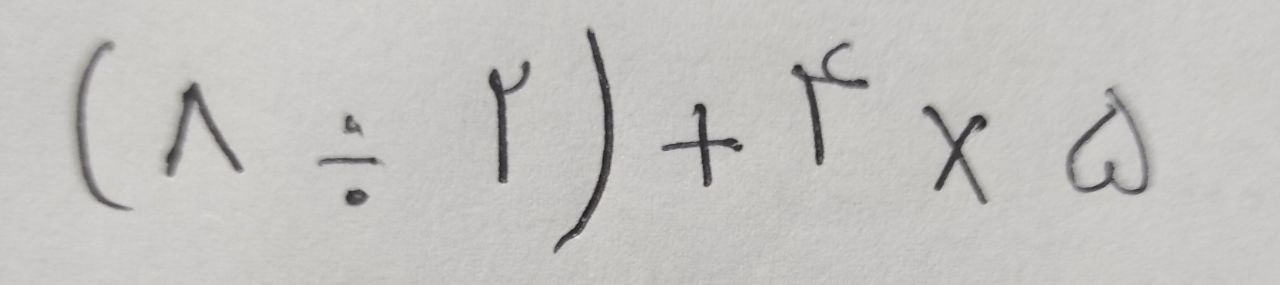character: (553, 27, 614, 256), (76, 40, 136, 212), (791, 41, 871, 166), (1064, 88, 1151, 196), (163, 83, 244, 179), (922, 106, 991, 207), (663, 103, 744, 188), (318, 112, 381, 208), (488, 62, 532, 185)
